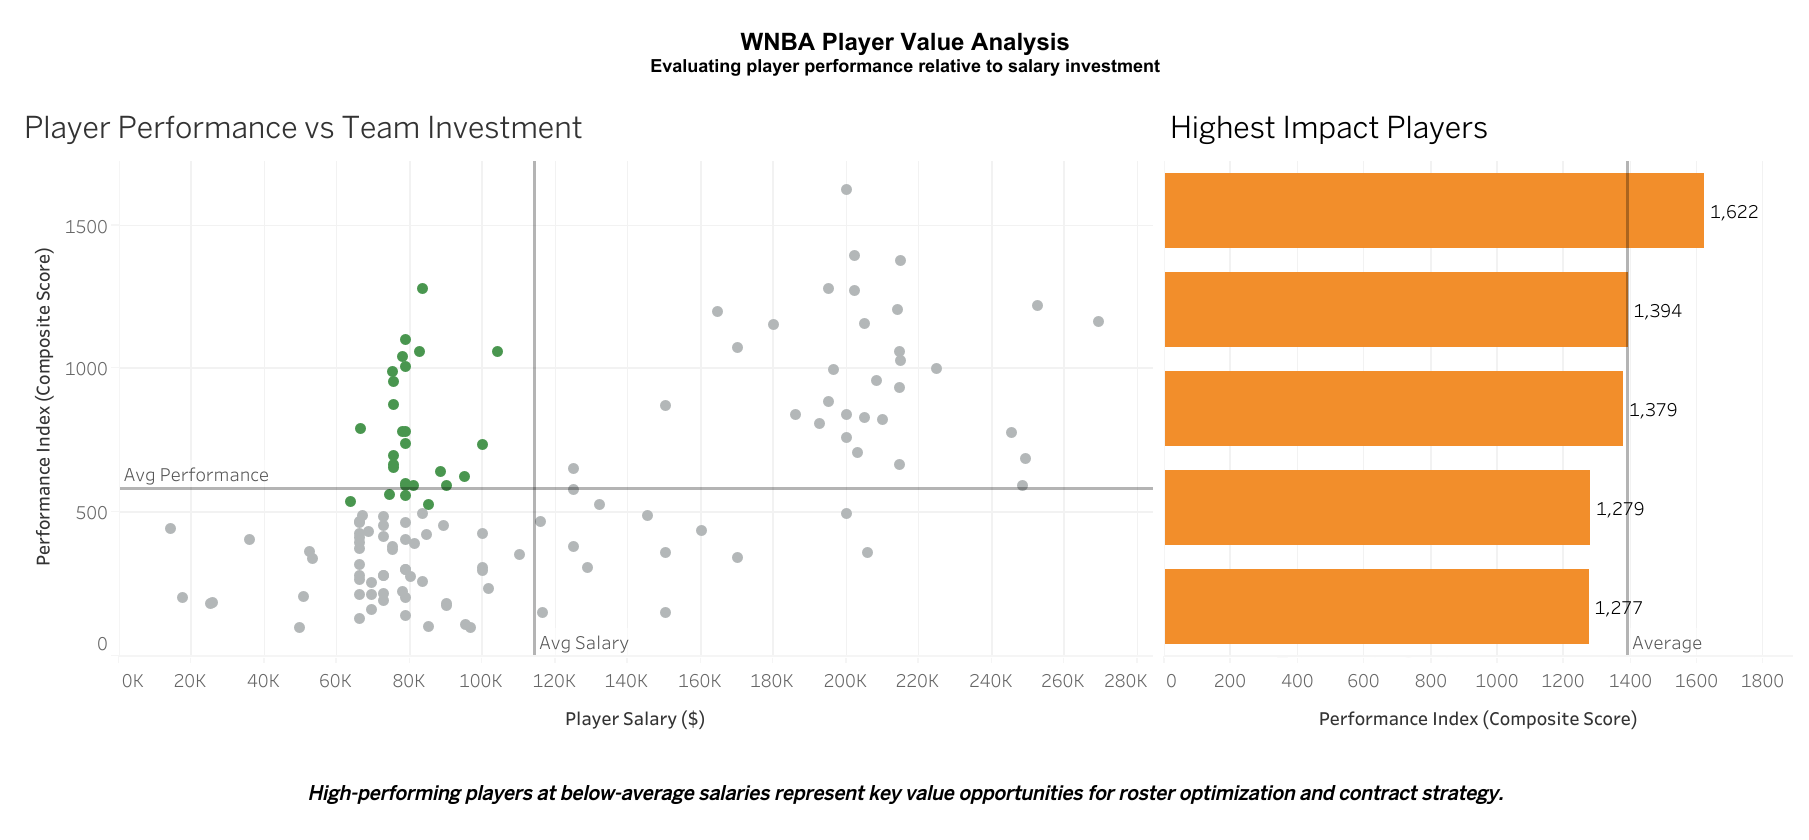

What the dashboard file says about the page in this screenshot:
{"tool":"tableau","page":{"name":"Dashboard 1","canvas":[1000,1000],"units":"permille","ordinal":0},"visuals":[{"type":"text","box":[5.7,9.2,988.6,95.7]},{"type":"worksheet","title":"Salary vs Performance","mark":"Circle","rows":["performance_index"],"cols":["salary"],"box":[5.7,104.9,634.3,786.6]},{"type":"worksheet","title":"Performance Leaderboard","mark":"Automatic","rows":["player"],"cols":["performance_index"],"box":[640,104.9,354.3,786.6]},{"type":"text","box":[5.7,891.6,988.6,65.8]}]}

Visuals, with their boxes on the dashboard's canvas, which has no fixed pixel size, in thousandths of its width and height (x1, y1, x2, y2). These are canvas units, not pixel positions in the 1809x840 screenshot, which may show the page scaled, cropped or inside an application window:
text: 6,9,994,105
"Salary vs Performance" worksheet (Circle marks): 6,105,640,892
"Performance Leaderboard" worksheet: 640,105,994,892
text: 6,892,994,957
